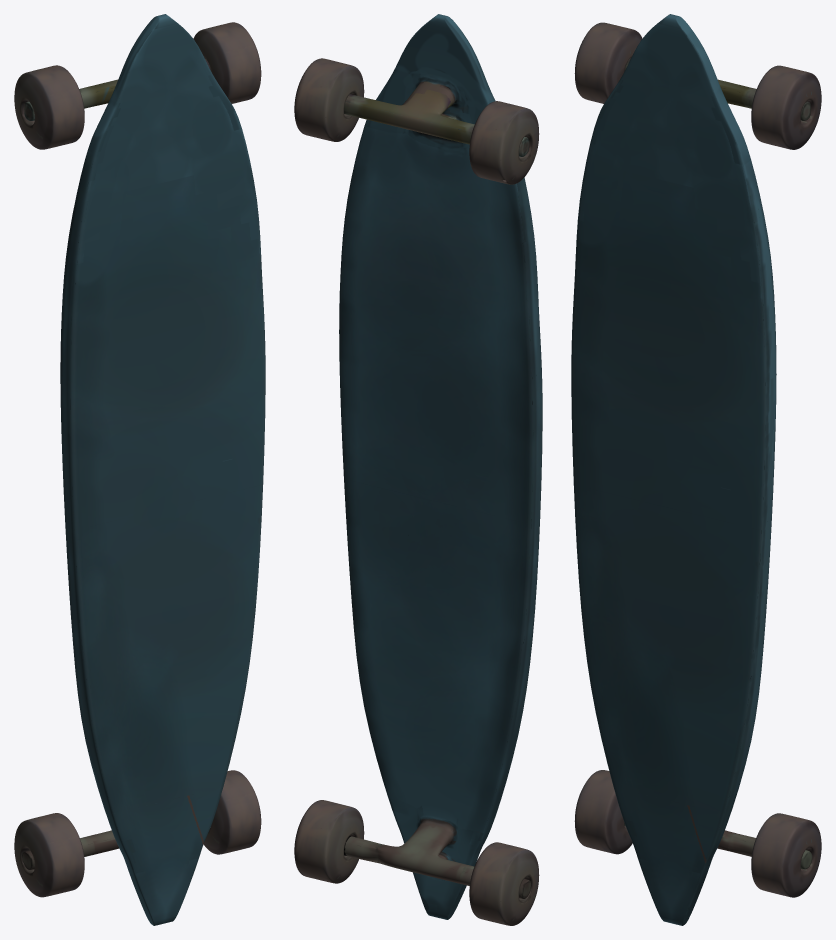
File: Skate 1.fbx
3 renders of one model, left to right at view 1: azimuth 30°, elevation 25°; view 2: azimuth 150°, elevation 25°; view 3: azimuth 330°, elevation 25°, orthographic.
Parts seen in each view (by area): view 1: Cube; view 2: Cube; view 3: Cube.
Boxes of the visible parts, x1,y1,x2,y2 form: Cube: (14, 14, 265, 925); Cube: (294, 14, 542, 925); Cube: (571, 14, 821, 925).
Size of the model in its own units: 158 by 619 by 63.66.
